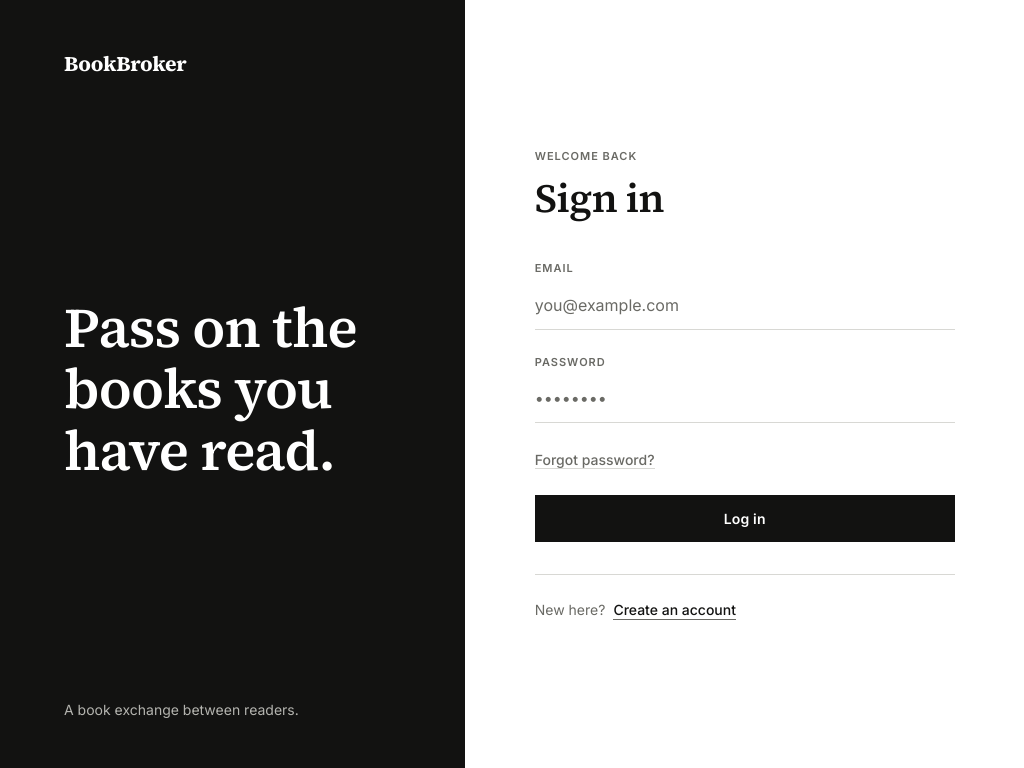
it: shows the server error when the password is wrong
Type "reader@example.com" into the field labelled "Email" at (745, 305), box [535, 281, 955, 330]
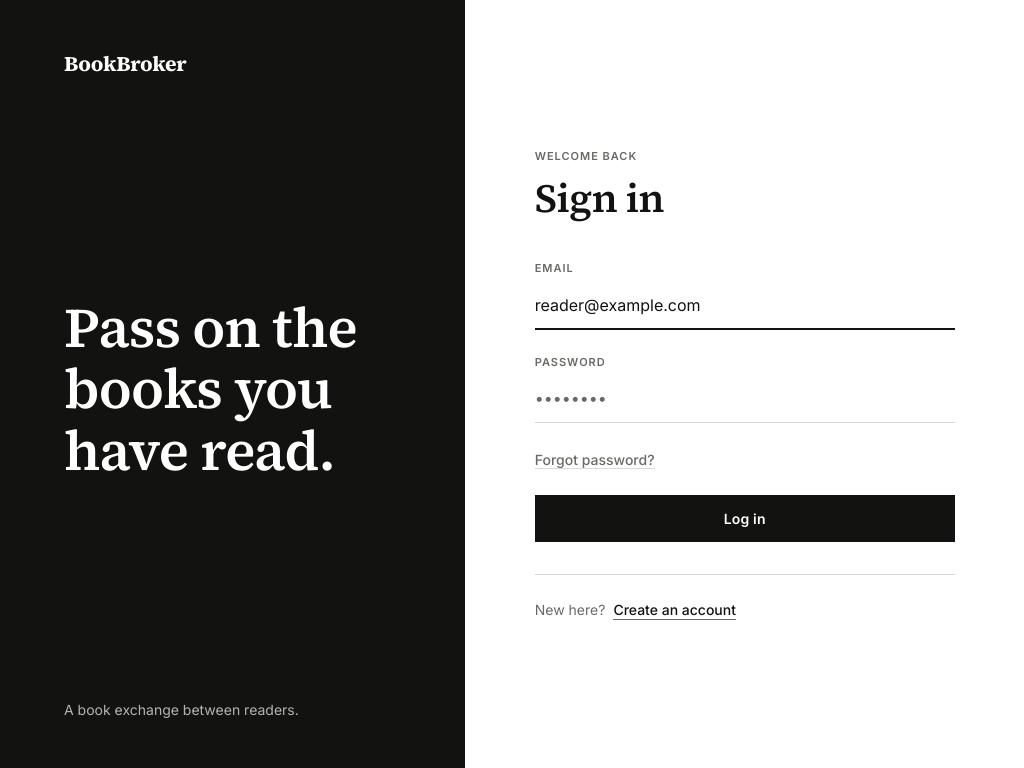
Type "hunter2" into the password field labelled "Password" at (745, 399), box [535, 374, 955, 423]
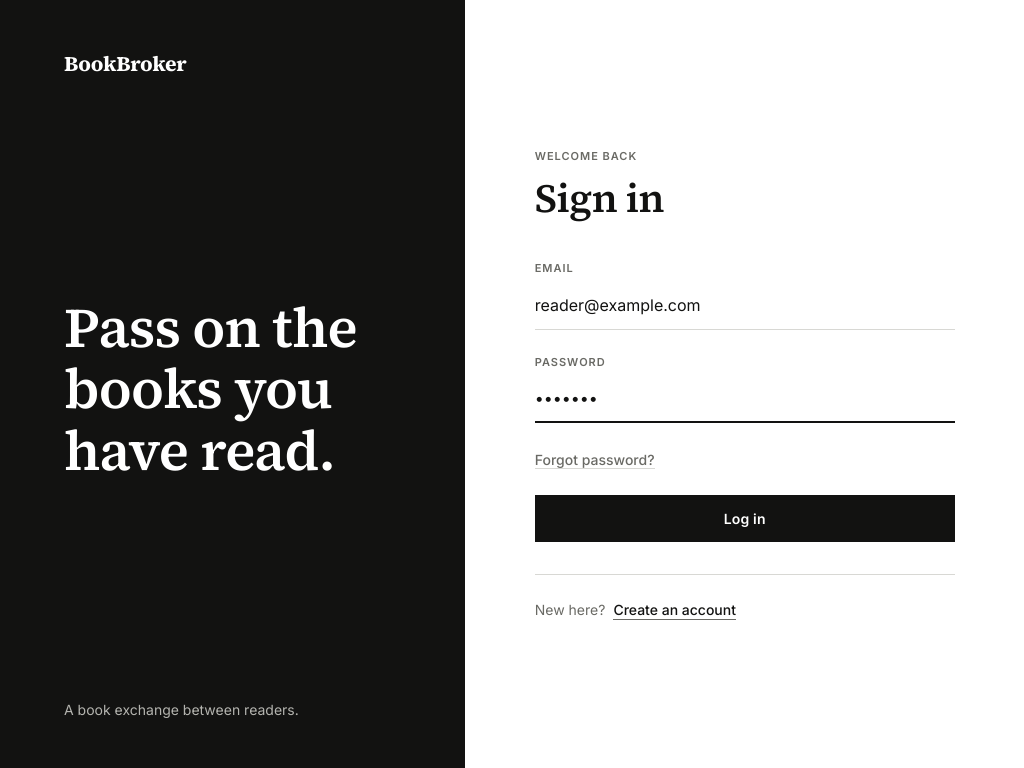
Click the button "Log in" at (745, 519), box [535, 495, 955, 542]
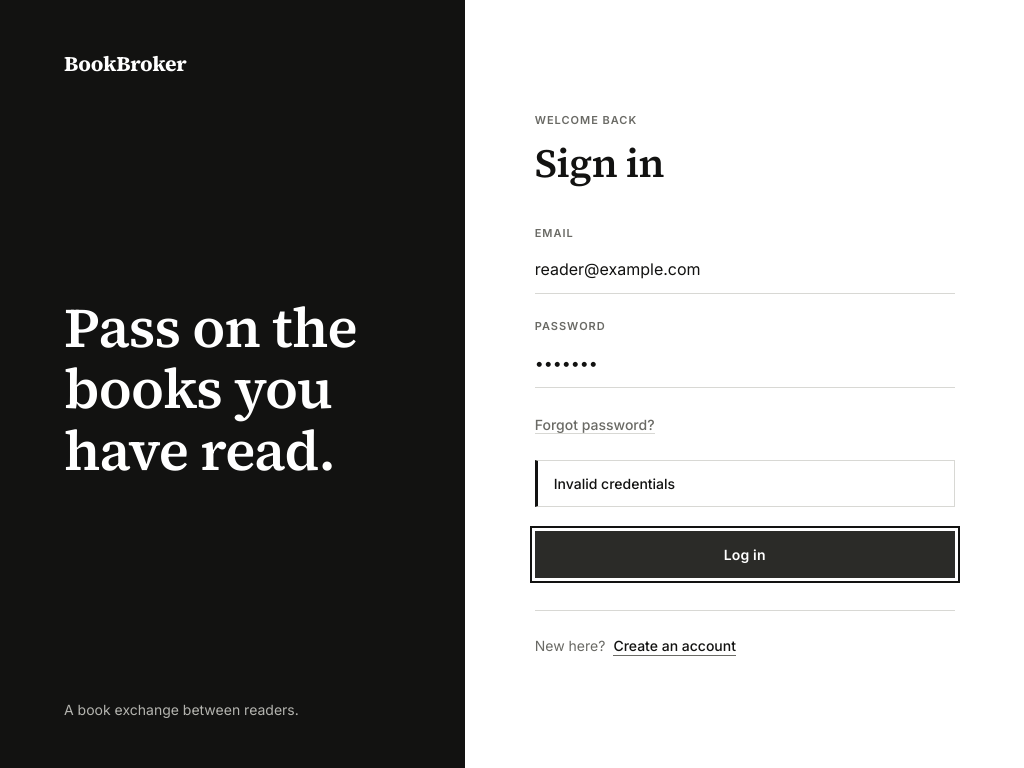
Result: the text "Invalid credentials" is shown at [535, 460, 955, 507]
